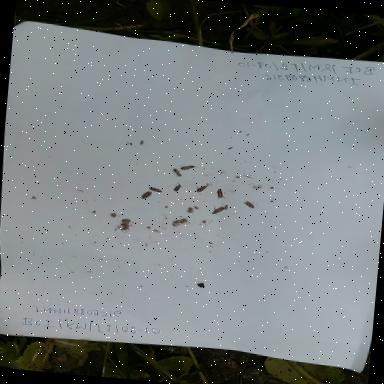pbw: (240, 198, 258, 211), (212, 187, 228, 201), (170, 216, 192, 226), (179, 163, 199, 174), (169, 181, 185, 194), (137, 190, 155, 201), (193, 184, 208, 197), (209, 205, 225, 217), (144, 186, 166, 194), (168, 168, 182, 179), (222, 204, 231, 212)
